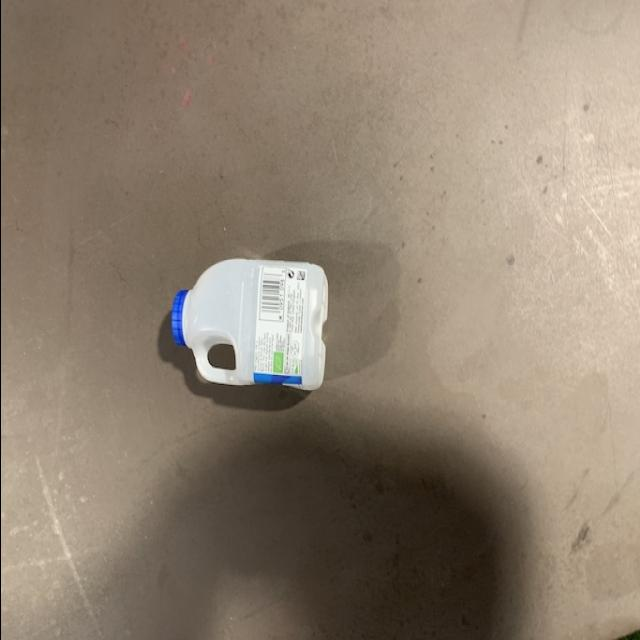HDPEM: (144, 253, 332, 405)
